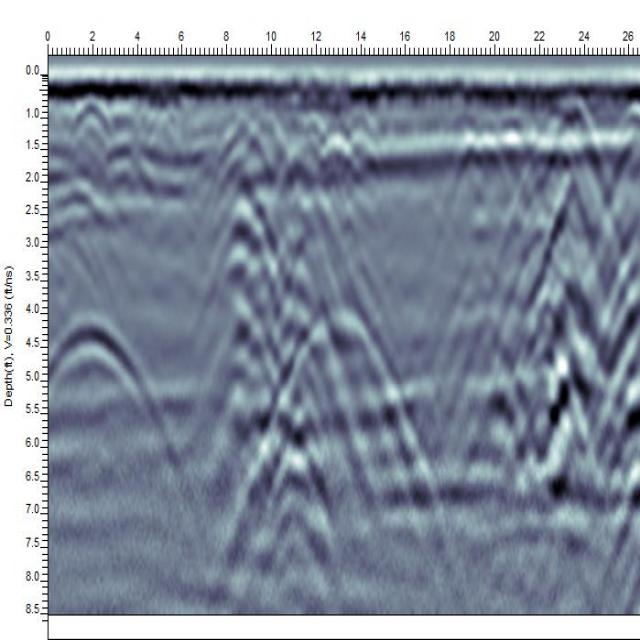hyperbola: (51, 306, 170, 438)
